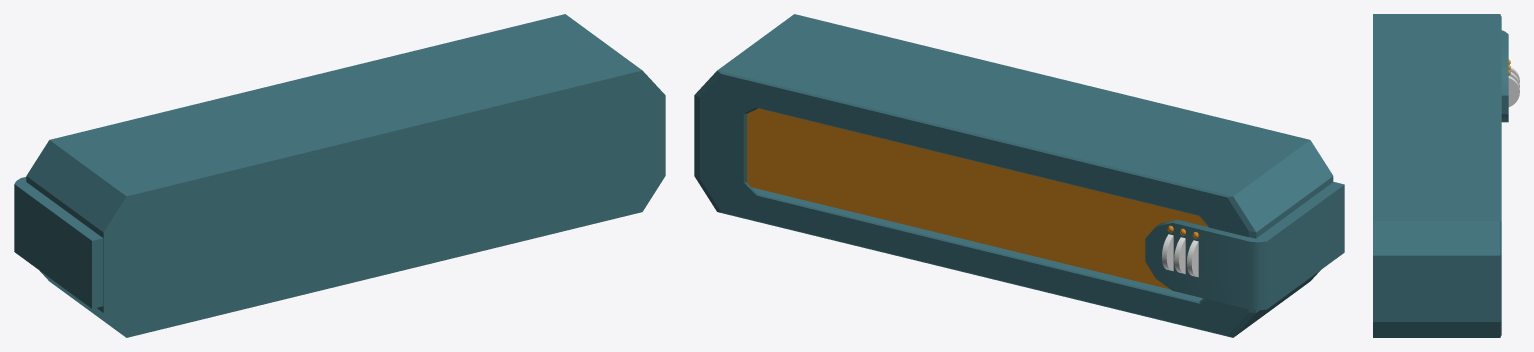
File: Locker.fbx
The picture shows the model from 3 angles, left to right: view 1: azimuth 30°, elevation 25°; view 2: azimuth 150°, elevation 25°; view 3: azimuth 270°, elevation 25°; orthographic projection. The views are drawn at different scales.
Parts seen in each view (by area): view 1: body; view 2: body, window; view 3: body, dial.002.
Part boxes in pixels (x1,y1,x2,y2): body: (14,14,665,337); body: (694,14,1344,337); window: (747,108,1208,289); body: (1373,14,1508,337); dial.002: (1508,76,1519,106).
Bounding box in the file's own units: 848 × 200 × 228.
